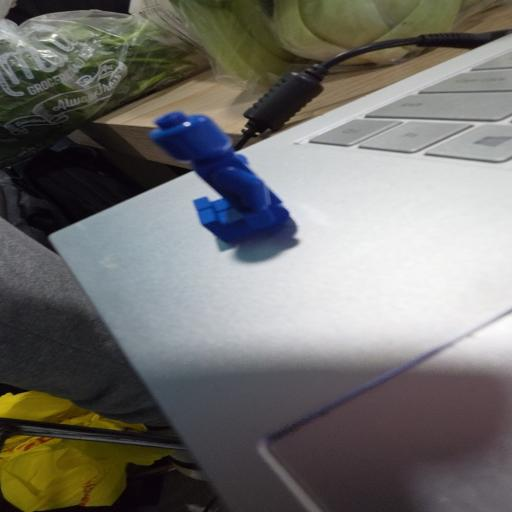Blue: (151, 112, 289, 241)
